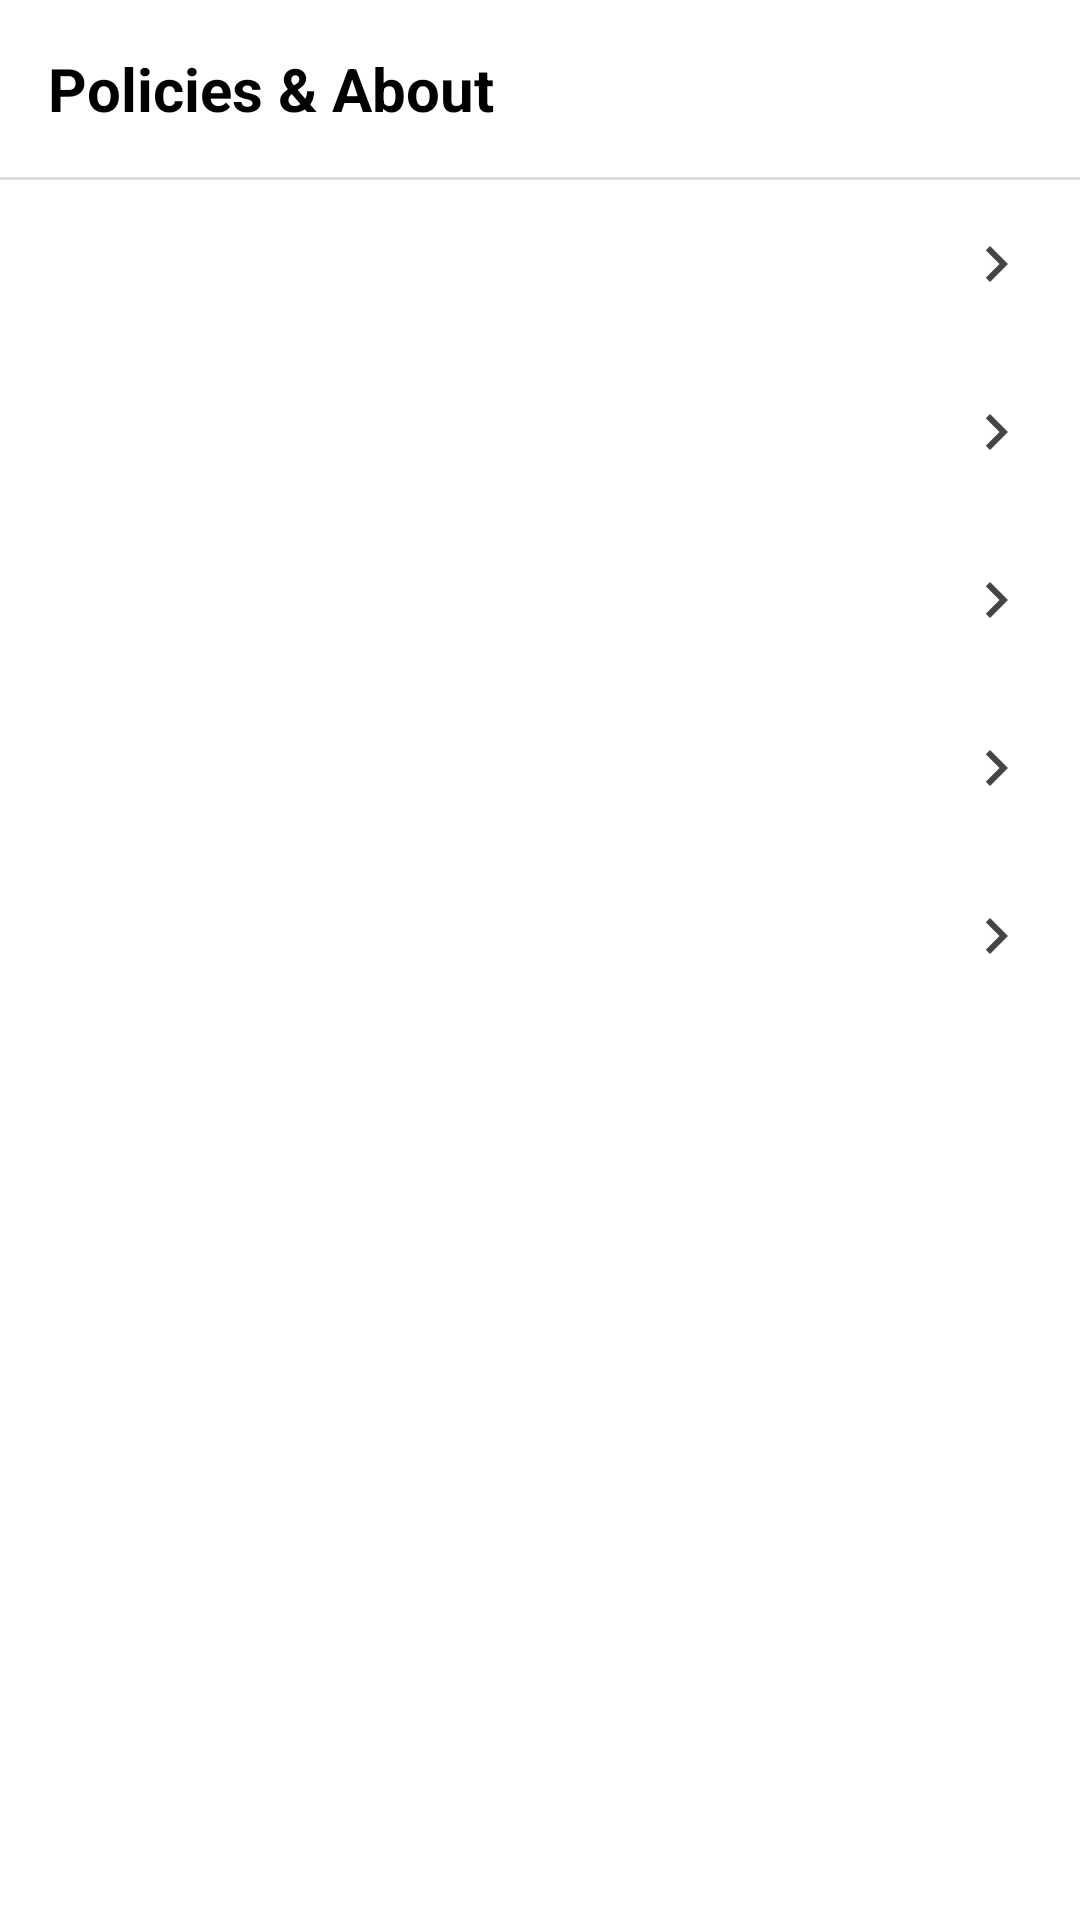

Where icons sit on this 1080px×1920px app screen, as (x1, y1, x2, y2):
chevron right: (986, 246, 1008, 282), (986, 414, 1008, 450), (986, 582, 1008, 618), (986, 750, 1008, 786), (986, 918, 1008, 954)
